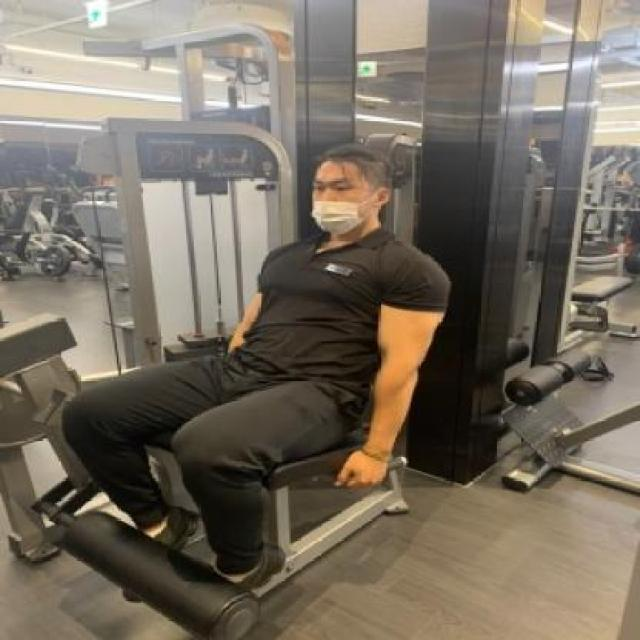leg extension: (0, 109, 515, 640)
